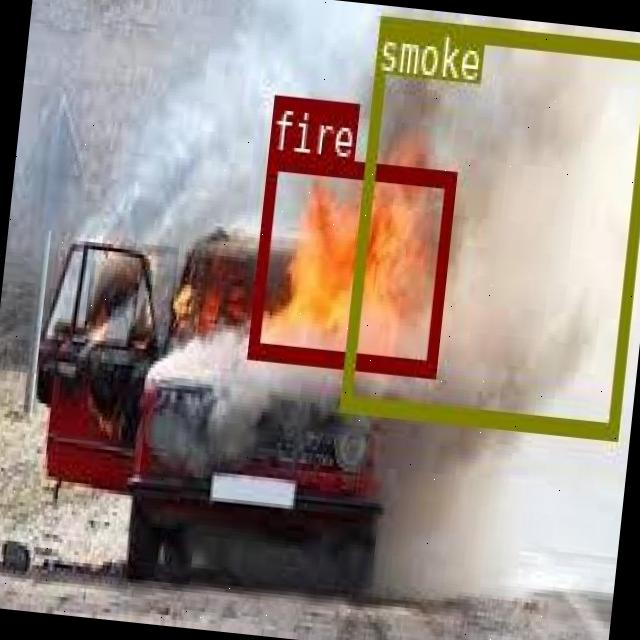fire: (248, 150, 456, 373)
smoke: (339, 14, 640, 434)
